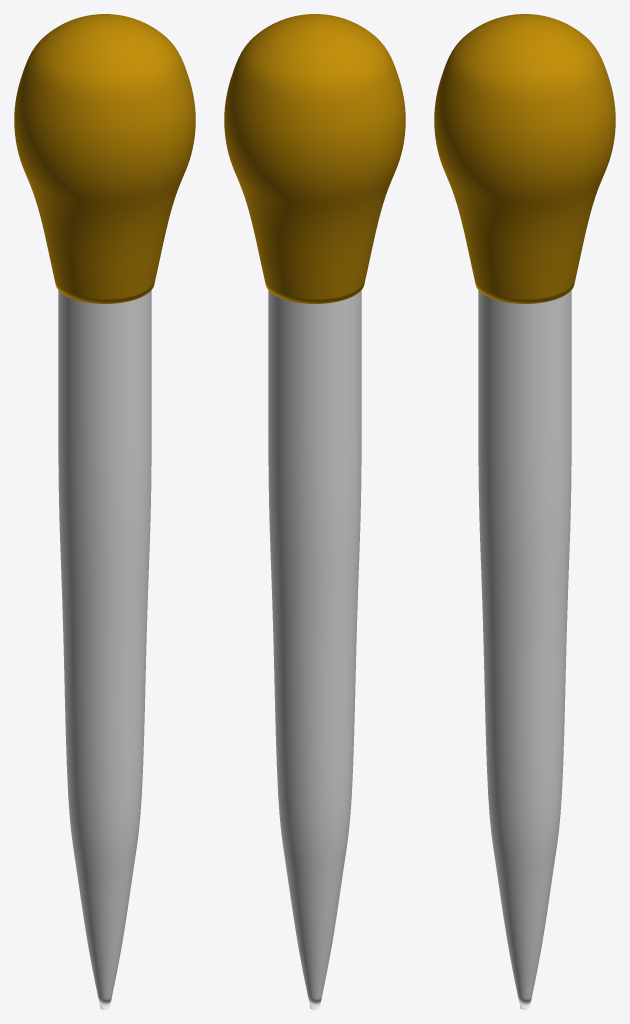
The model's file is pipet.fbx.
The picture shows the model from 3 angles, left to right: view 1: azimuth 30°, elevation 25°; view 2: azimuth 150°, elevation 25°; view 3: azimuth 270°, elevation 25°; orthographic projection.
Visible parts, largest first — view 1: Cylinder, Sphere; view 2: Cylinder, Sphere; view 3: Cylinder, Sphere.
Part boxes in pixels (x1,y1,x2,y2): Cylinder: [58, 290, 151, 1009]; Sphere: [14, 14, 195, 303]; Cylinder: [268, 290, 361, 1009]; Sphere: [224, 14, 405, 303]; Cylinder: [478, 290, 571, 1009]; Sphere: [434, 14, 615, 303].
Bounding box in the file's own units: 101 × 608 × 101.
